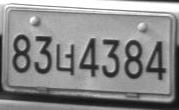3: (32, 35, 53, 75), (101, 38, 120, 78)
4: (144, 40, 166, 81), (78, 37, 100, 76)
8: (123, 38, 143, 79), (11, 33, 31, 73)
너: (55, 43, 75, 76)
